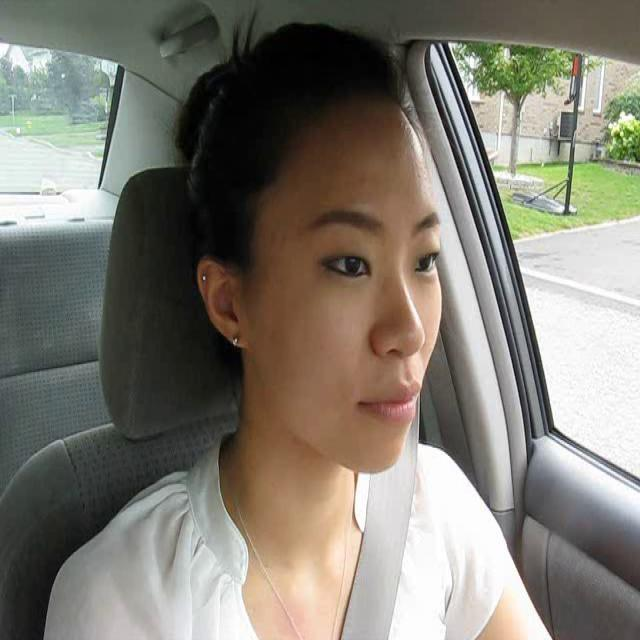close: (353, 372, 422, 430)
